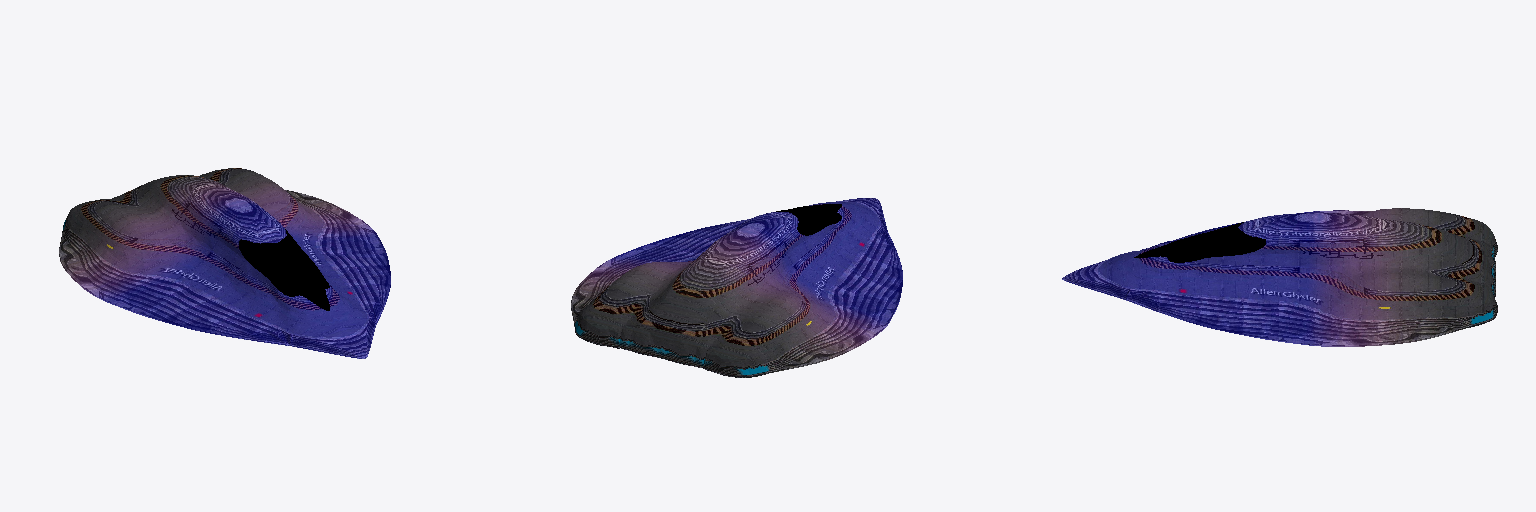
The picture shows the model from 3 angles: view 1: azimuth 30°, elevation 25°; view 2: azimuth 150°, elevation 25°; view 3: azimuth 270°, elevation 25°; orthographic projection.
Parts seen in each view (by area): view 1: alien glyder; view 2: alien glyder; view 3: alien glyder.
Part boxes in pixels (left/top/right/bottom): alien glyder: left=59, top=168, right=390, bottom=358; alien glyder: left=571, top=198, right=902, bottom=377; alien glyder: left=1062, top=208, right=1497, bottom=346.
Size of the model in its own units: 416 by 111 by 565.
2 materials, 1 textured.